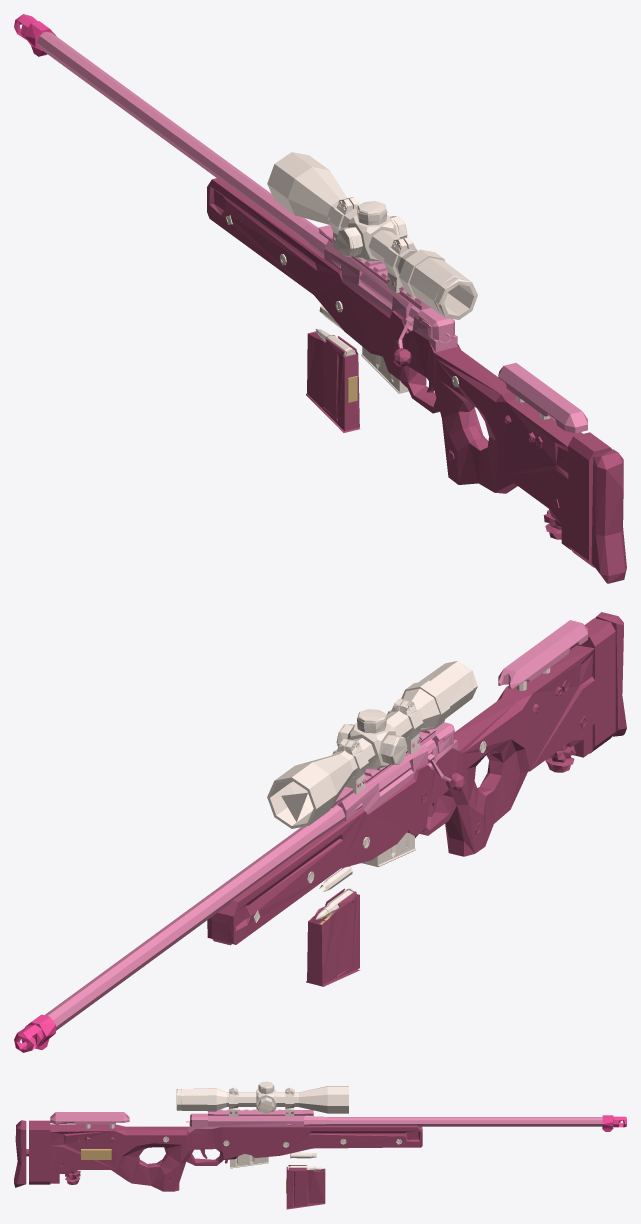
Rendered from Sniper_AWP.obj.
The picture shows the model from 3 angles, top to bottom: view 1: azimuth 30°, elevation 25°; view 2: azimuth 150°, elevation 25°; view 3: azimuth 270°, elevation 25°; orthographic projection. The views are drawn at different scales.
Parts seen in each view (by area): view 1: Mag, Body, Panel, Grip, Accent; view 2: Mag, Panel, Body, Grip, Accent; view 3: Mag, Body, Panel, Grip, Accent, Bolt.
Boxes of the visible parts, bbox=[...] form: Mag: bbox=[207, 178, 582, 549]; Body: bbox=[37, 31, 587, 433]; Panel: bbox=[226, 152, 550, 419]; Grip: bbox=[447, 432, 626, 583]; Accent: bbox=[14, 14, 56, 56]; Mag: bbox=[207, 645, 594, 986]; Panel: bbox=[253, 661, 550, 922]; Body: bbox=[44, 620, 587, 1030]; Grip: bbox=[475, 612, 626, 834]; Accent: bbox=[14, 1014, 55, 1052]; Mag: bbox=[50, 1124, 422, 1209]; Body: bbox=[50, 1109, 602, 1132]; Panel: bbox=[85, 1081, 402, 1170]; Grip: bbox=[14, 1120, 173, 1187]; Accent: bbox=[602, 1115, 626, 1131]; Bolt: bbox=[81, 1149, 111, 1159].
Bounding box in the file's own units: 0.2474 × 0.8864 × 4.
